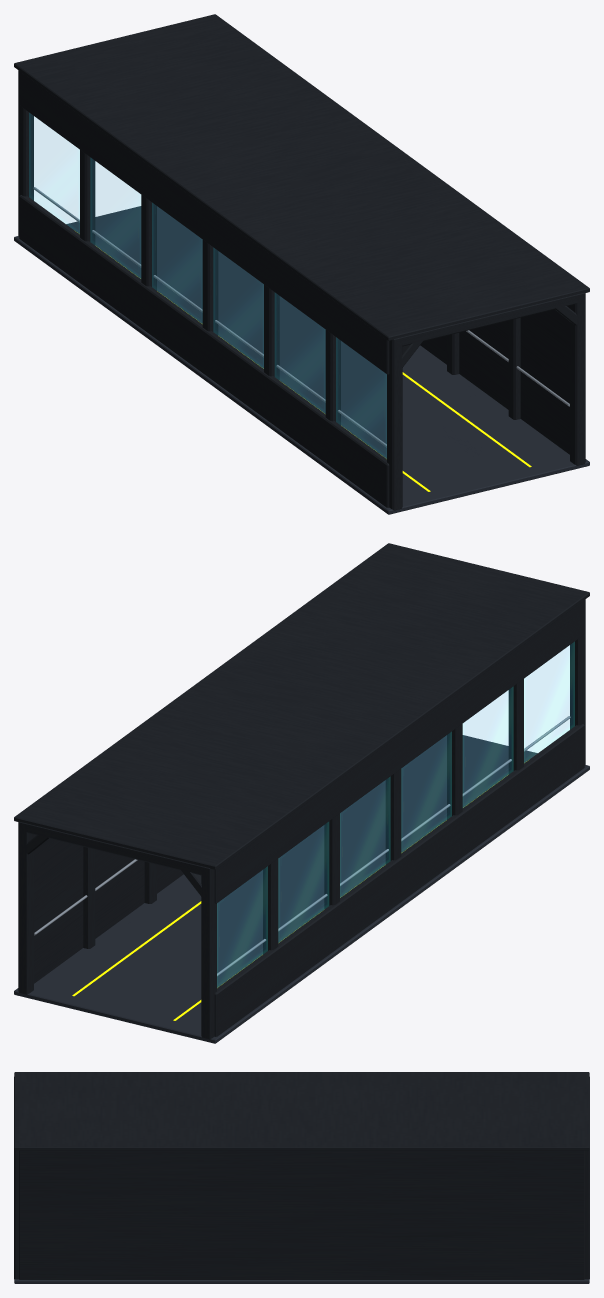
Rendered from room_02_shell.glb.
The picture shows the model from 3 angles, top to bottom: view 1: azimuth 30°, elevation 25°; view 2: azimuth 150°, elevation 25°; view 3: azimuth 270°, elevation 25°; orthographic projection. The views are drawn at different scales.
Parts seen in each view (by area): view 1: CorridorShell_OctagonalTitaniumRibs, CorridorShell_CarbonSlateDeck, CorridorShell_WestTranslucentWindowGallery, CorridorShell_MachinedHandrails; view 2: CorridorShell_OctagonalTitaniumRibs, CorridorShell_CarbonSlateDeck, CorridorShell_WestTranslucentWindowGallery, CorridorShell_MachinedHandrails; view 3: CorridorShell_OctagonalTitaniumRibs, CorridorShell_CarbonSlateDeck.
Boxes of the visible parts, bbox=[...] form: CorridorShell_OctagonalTitaniumRibs: bbox=[14, 14, 589, 510]; CorridorShell_CarbonSlateDeck: bbox=[14, 206, 589, 514]; CorridorShell_WestTranslucentWindowGallery: bbox=[29, 113, 386, 458]; CorridorShell_MachinedHandrails: bbox=[33, 187, 569, 447]; CorridorShell_OctagonalTitaniumRibs: bbox=[14, 543, 589, 1039]; CorridorShell_CarbonSlateDeck: bbox=[14, 735, 589, 1043]; CorridorShell_WestTranslucentWindowGallery: bbox=[217, 642, 574, 987]; CorridorShell_MachinedHandrails: bbox=[34, 716, 570, 976]; CorridorShell_OctagonalTitaniumRibs: bbox=[14, 1072, 589, 1279]; CorridorShell_CarbonSlateDeck: bbox=[14, 1279, 589, 1283].
Bounding box in the file's own units: 3.8 × 3.2 × 12.22.
Materials: 7 (7 with a texture image).
